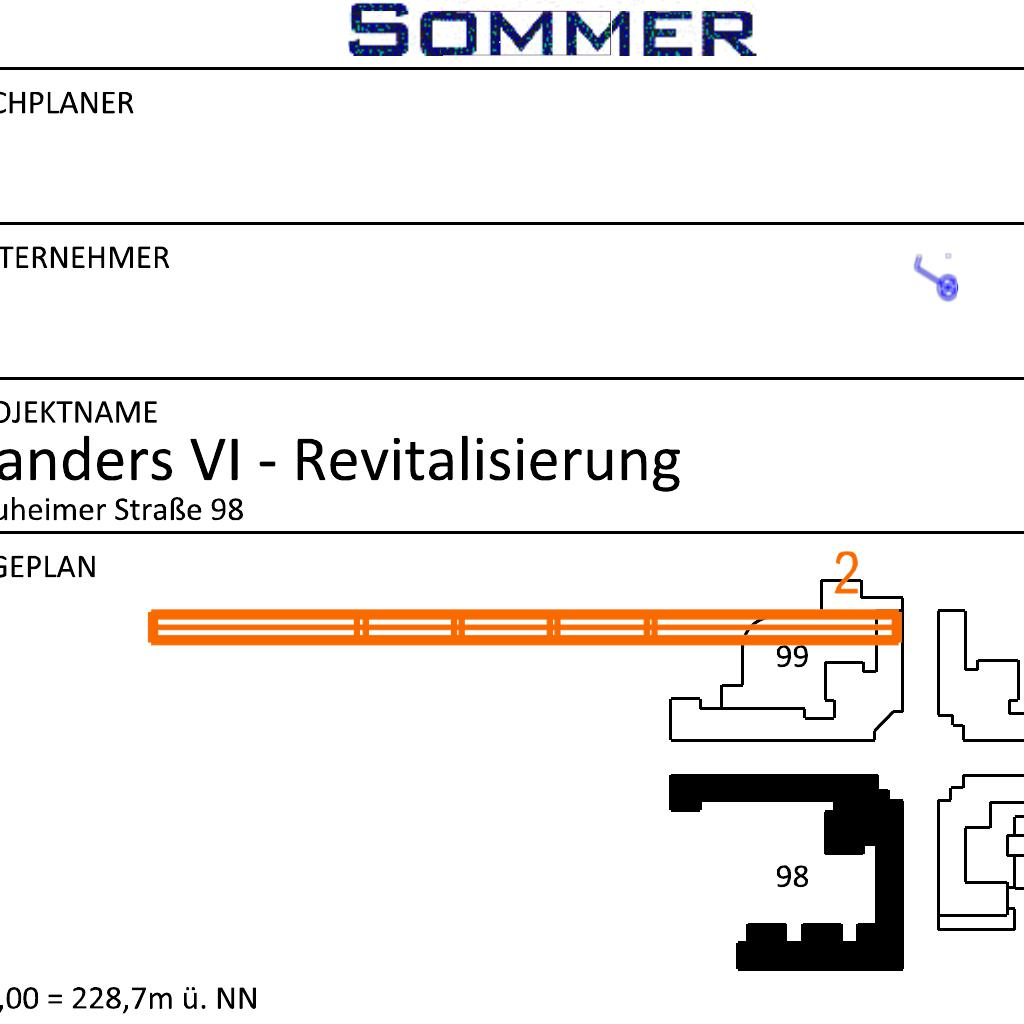Ambulanz_Pendelleuchte_LED: (137, 546, 911, 658)
Ausschalter_beleuchtet: (911, 251, 959, 307)
